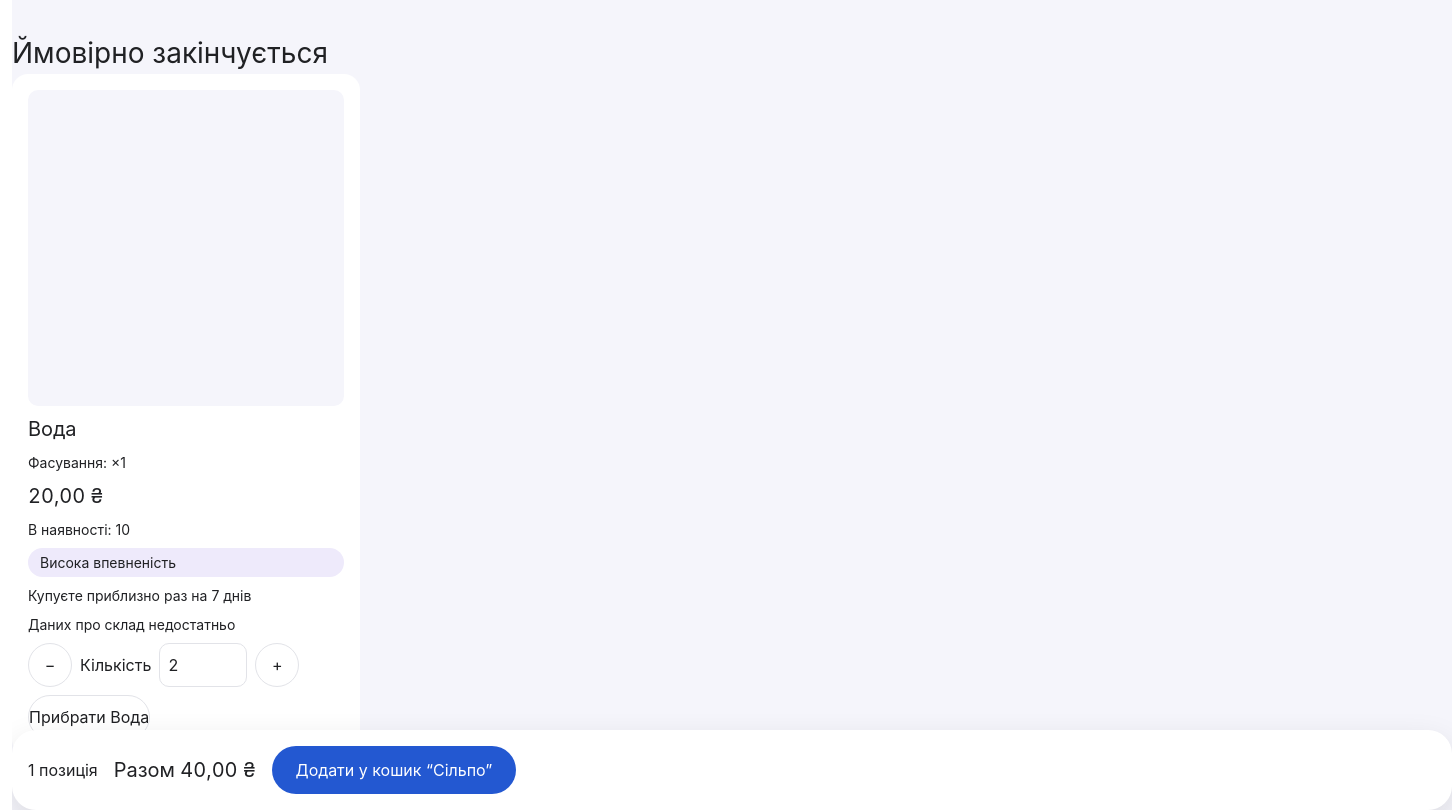
it: DraftEditor › T15-02 disables confirmation for zero input
This screenshot has width=1452, height=810.
Replace the text in the number field named "Кількість для Вода" with "0" at (203, 665), box top-left (159, 643), bottom-right (247, 687)
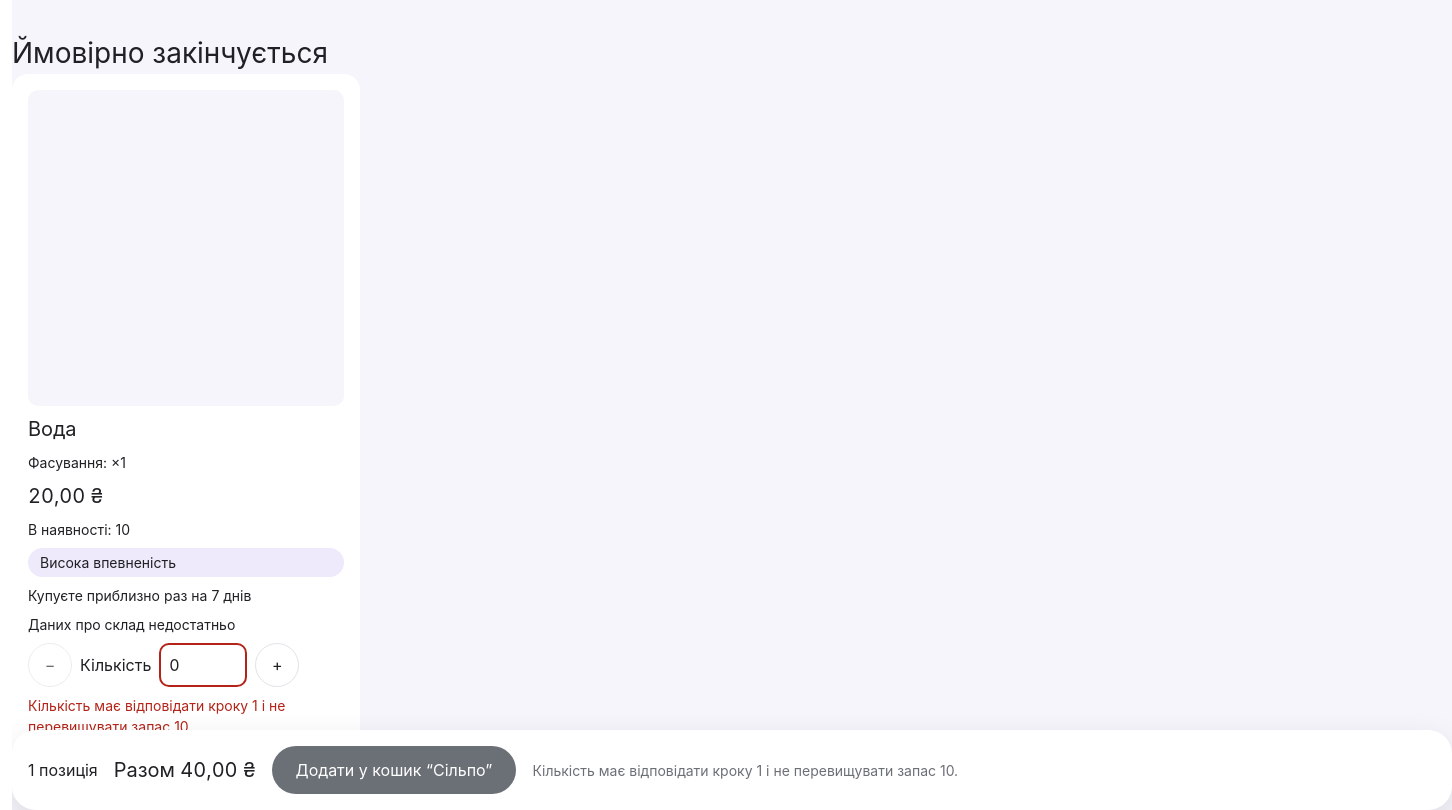
expect the button "Додати у кошик “Сільпо”" is disabled: met, box top-left (272, 746), bottom-right (516, 794)
